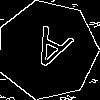A: (22, 25, 75, 81)
